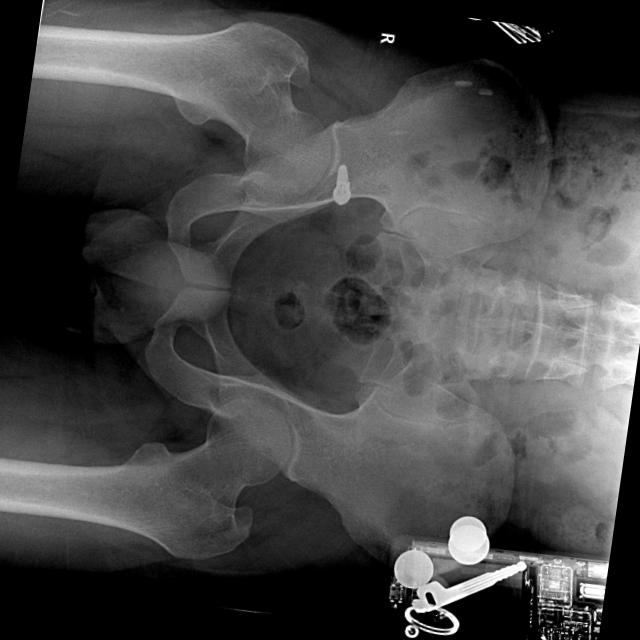normal-left: (45, 399, 290, 560)
normal-right: (89, 23, 330, 196)
